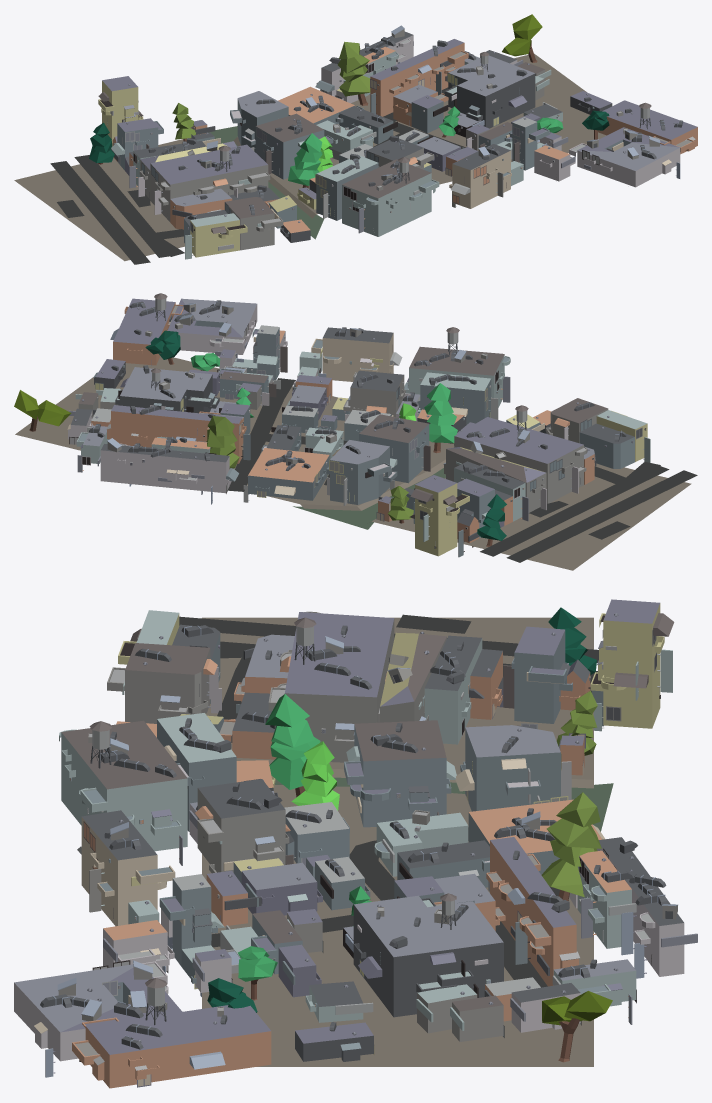
The model's file is MN_Env6.fbx.
3 views of the same model, one above another, from view 1: azimuth 30°, elevation 25°; view 2: azimuth 150°, elevation 25°; view 3: azimuth 270°, elevation 25° (orthographic). The views are drawn at different scales.
Visible parts, largest first — view 1: Env_MN_06; view 2: Env_MN_06; view 3: Env_MN_06.
Part boxes in pixels (x1,y1,x2,y2): Env_MN_06: (14, 14, 697, 264); Env_MN_06: (14, 293, 697, 570); Env_MN_06: (14, 599, 697, 1088).
Bounding box in the file's own units: 8420 × 1153 × 5146.
